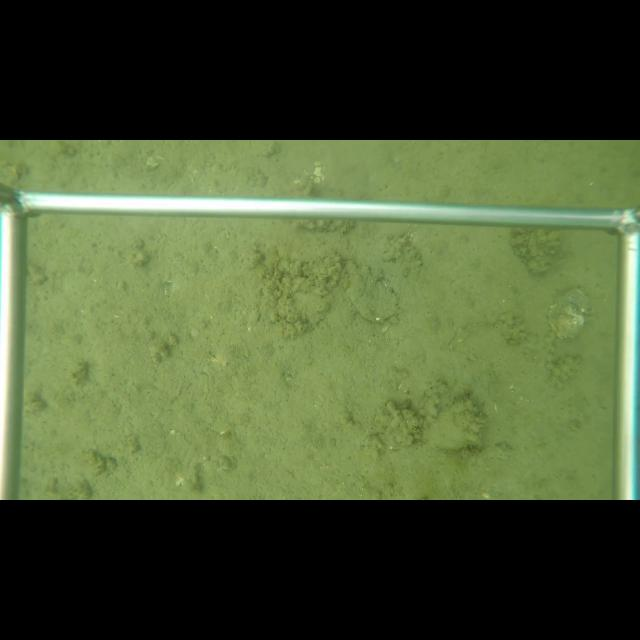Oyster-Closed: (339, 256, 402, 327), (431, 392, 487, 454), (545, 288, 588, 342)
